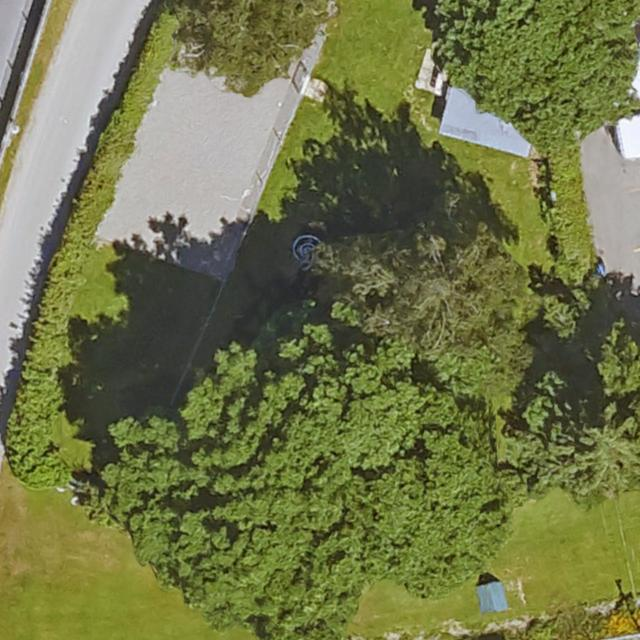tree: (98, 344, 355, 621), (435, 0, 639, 148), (349, 227, 522, 361), (170, 0, 333, 96), (311, 353, 425, 467), (575, 399, 640, 491), (590, 321, 640, 395)
